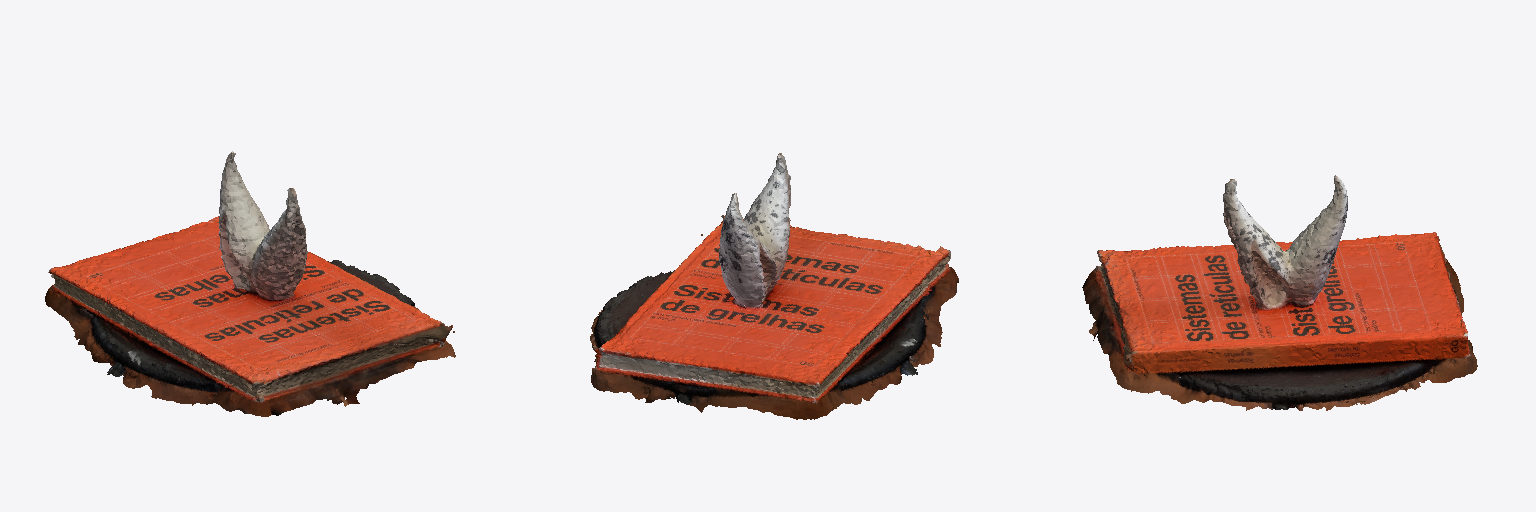
The picture shows the model from 3 angles: view 1: azimuth 30°, elevation 25°; view 2: azimuth 150°, elevation 25°; view 3: azimuth 270°, elevation 25°; orthographic projection.
Bounding box in the file's own units: 5.01 × 2.64 × 5.71.
Materials: 1 (1 with a texture image).